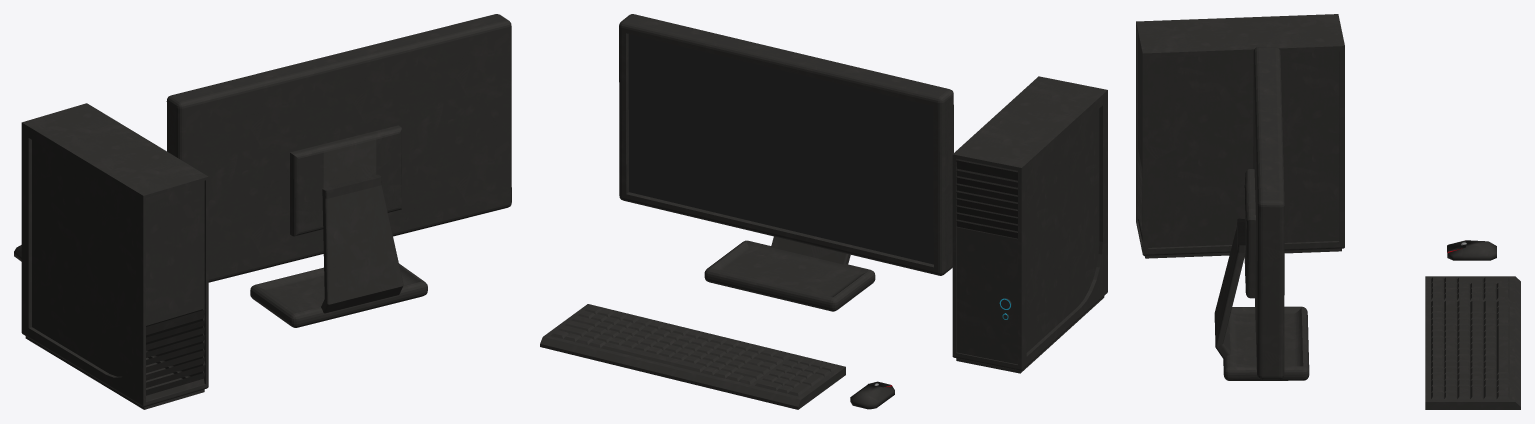
The model's file is computer.glb.
The picture shows the model from 3 angles, left to right: view 1: azimuth 30°, elevation 25°; view 2: azimuth 150°, elevation 25°; view 3: azimuth 270°, elevation 25°; orthographic projection. The views are drawn at different scales.
Visible parts, largest first — view 1: Cube.023; view 2: Cube.023, Cube.024, Cube.025; view 3: Cube.023, Cube.024, Cube.025.
Part boxes in pixels (x1=…): Cube.023: x1=21, y1=14, x2=511, y2=409; Cube.023: x1=619, y1=14, x2=1107, y2=373; Cube.024: x1=540, y1=304, x2=845, y2=409; Cube.025: x1=850, y1=381, x2=894, y2=409; Cube.023: x1=1136, y1=14, x2=1344, y2=380; Cube.024: x1=1425, y1=276, x2=1520, y2=409; Cube.025: x1=1447, y1=240, x2=1496, y2=260.
Size of the model in its own units: 0.6874 by 0.3481 by 0.5327.
5 materials, 1 textured.
